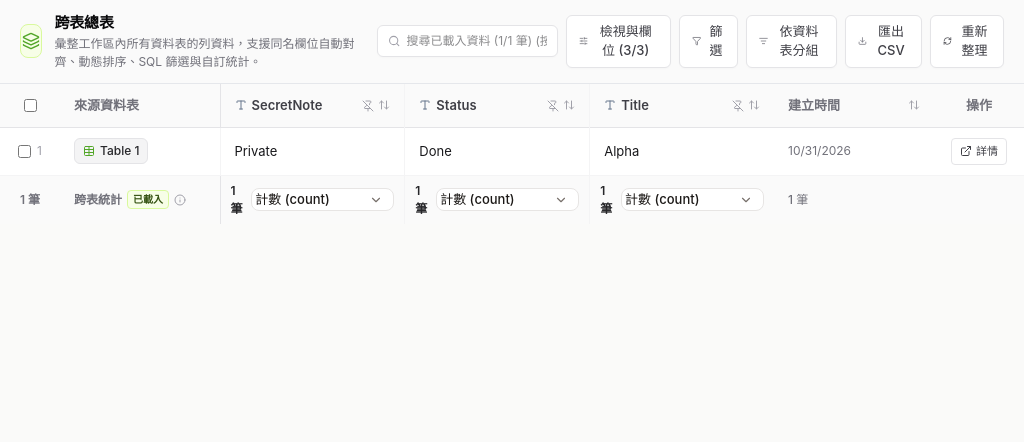
Test: MasterGridView UI Component › manages column visibility and toggles sparse columns in MasterGridView
Expected: the column heading with test id "sort-header-Title" is shown, [590, 84, 774, 128]
Expected: the column heading with test id "sort-header-SecretNote" is shown, [220, 84, 405, 128]
Open Columns Visibility Manager
Click the button with test id "toggle-columns-btn" at x=618, y=41, box [566, 15, 671, 68]
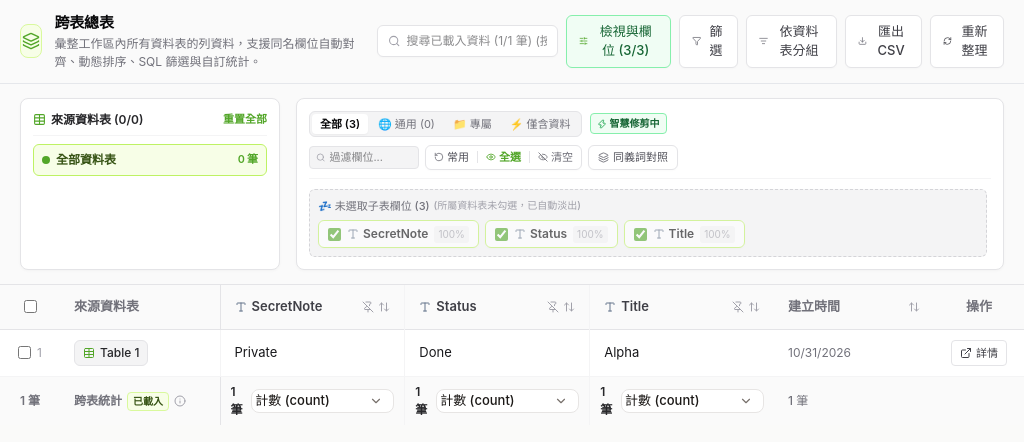
Result: the element with test id "master-columns-bar" is shown at [0, 84, 1023, 285]
Uncheck SecretNote column
Click the 1st checkbox at x=334, y=234, box [328, 228, 341, 240]
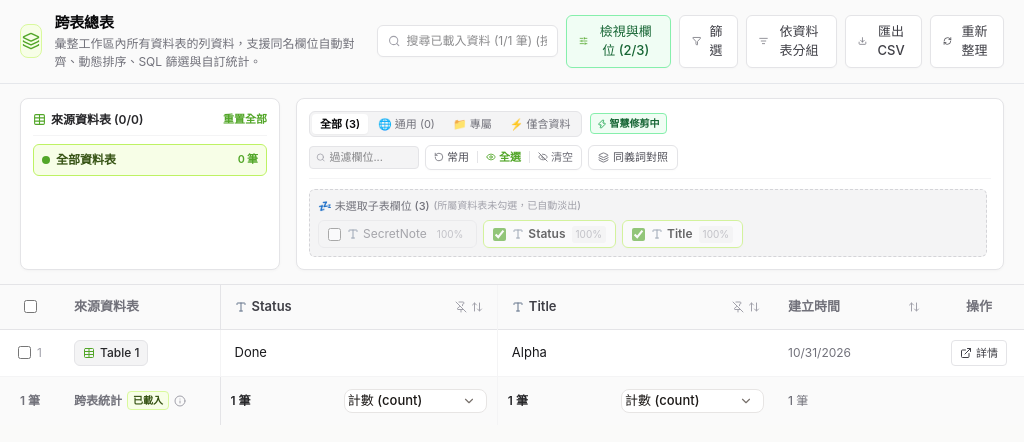
Expected: the column heading with test id "sort-header-Title" is shown, [497, 285, 774, 329]
Result: the column heading with test id "sort-header-SecretNote" is gone
Click "全部顯示"
Click the button with test id "select-all-columns-btn" at x=504, y=157, box [478, 146, 529, 168]
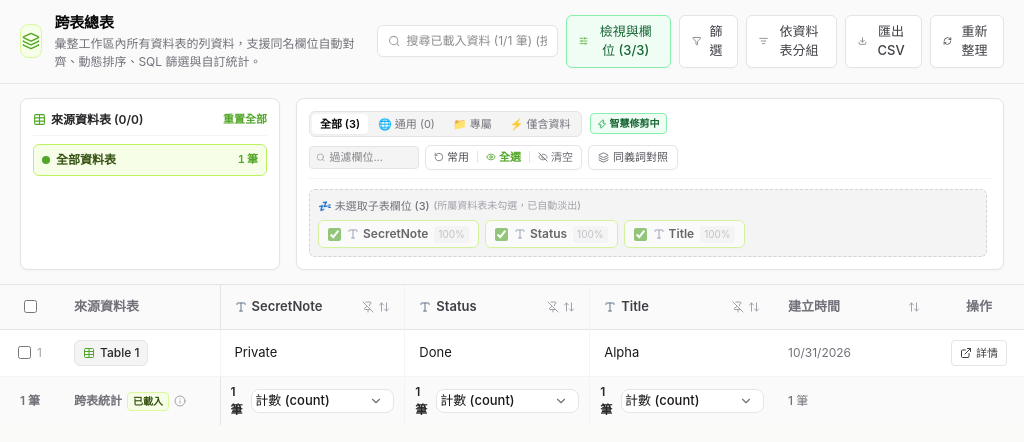
Result: the column heading with test id "sort-header-SecretNote" is shown at [220, 285, 405, 329]
